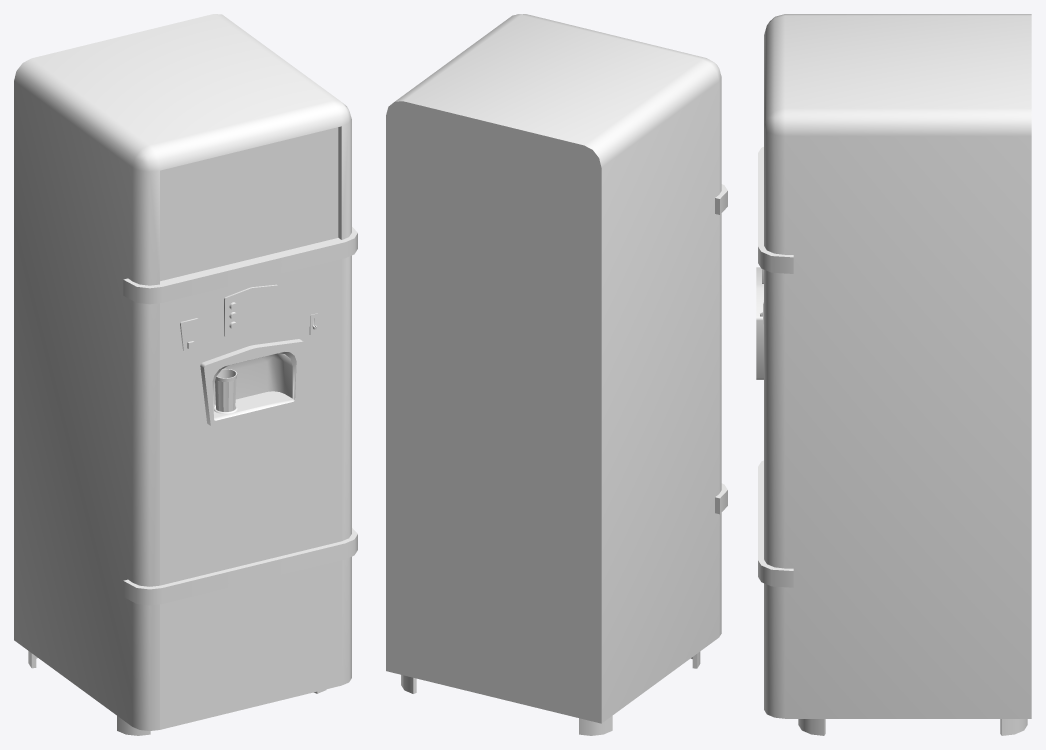
3 renders of one model, left to right at view 1: azimuth 30°, elevation 25°; view 2: azimuth 150°, elevation 25°; view 3: azimuth 270°, elevation 25°, orthographic. The views are drawn at different scales.
Bounding box in the file's own units: 0.7364 × 1.85 × 0.7436.
Materials: 1 (1 with a texture image).
